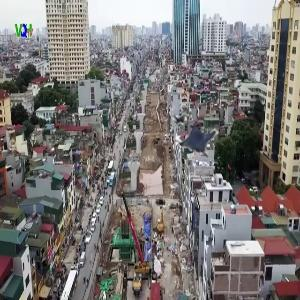drone: (162, 92, 251, 181)
